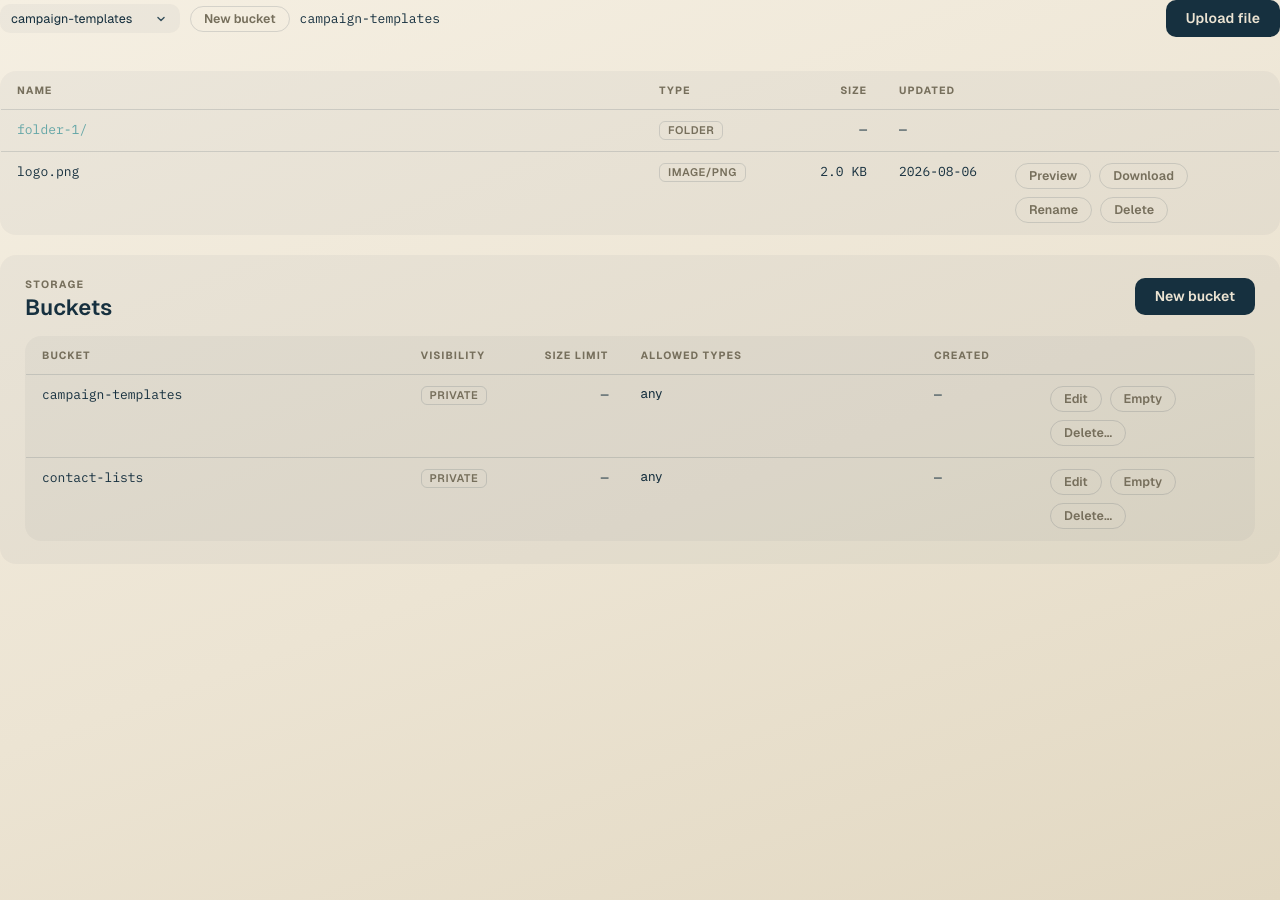
Scenario: StorageBrowser › the rail's New bucket chip opens the create dialog
# First match is the toolbar chip (the manager section repeats the action).
Click the 1st button "New bucket" at (240,18), box [190, 6, 290, 32]
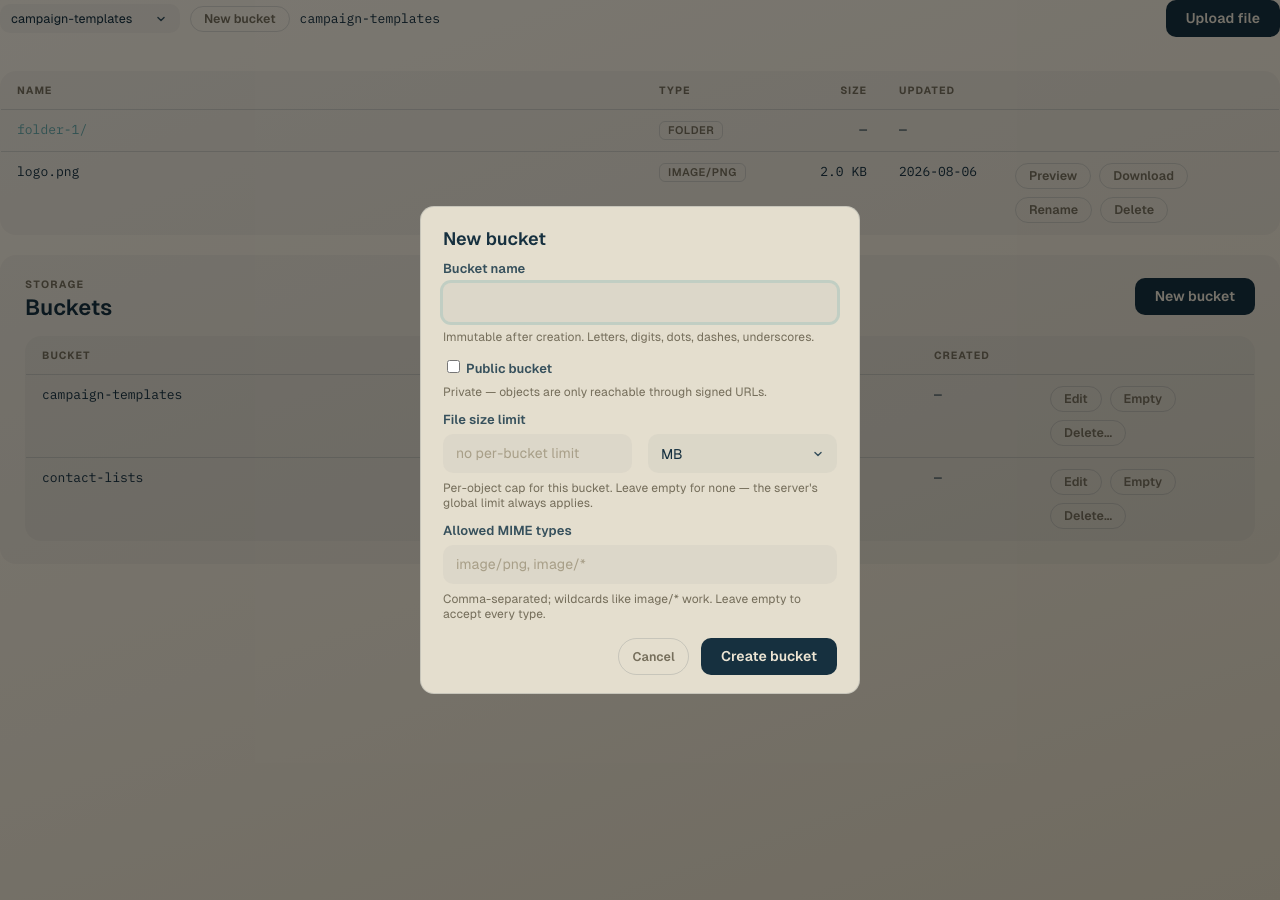
Expected: the dialog named "New bucket" is shown, [420, 206, 860, 694]
Click the button "Cancel" at (654,657), box [618, 638, 689, 675]
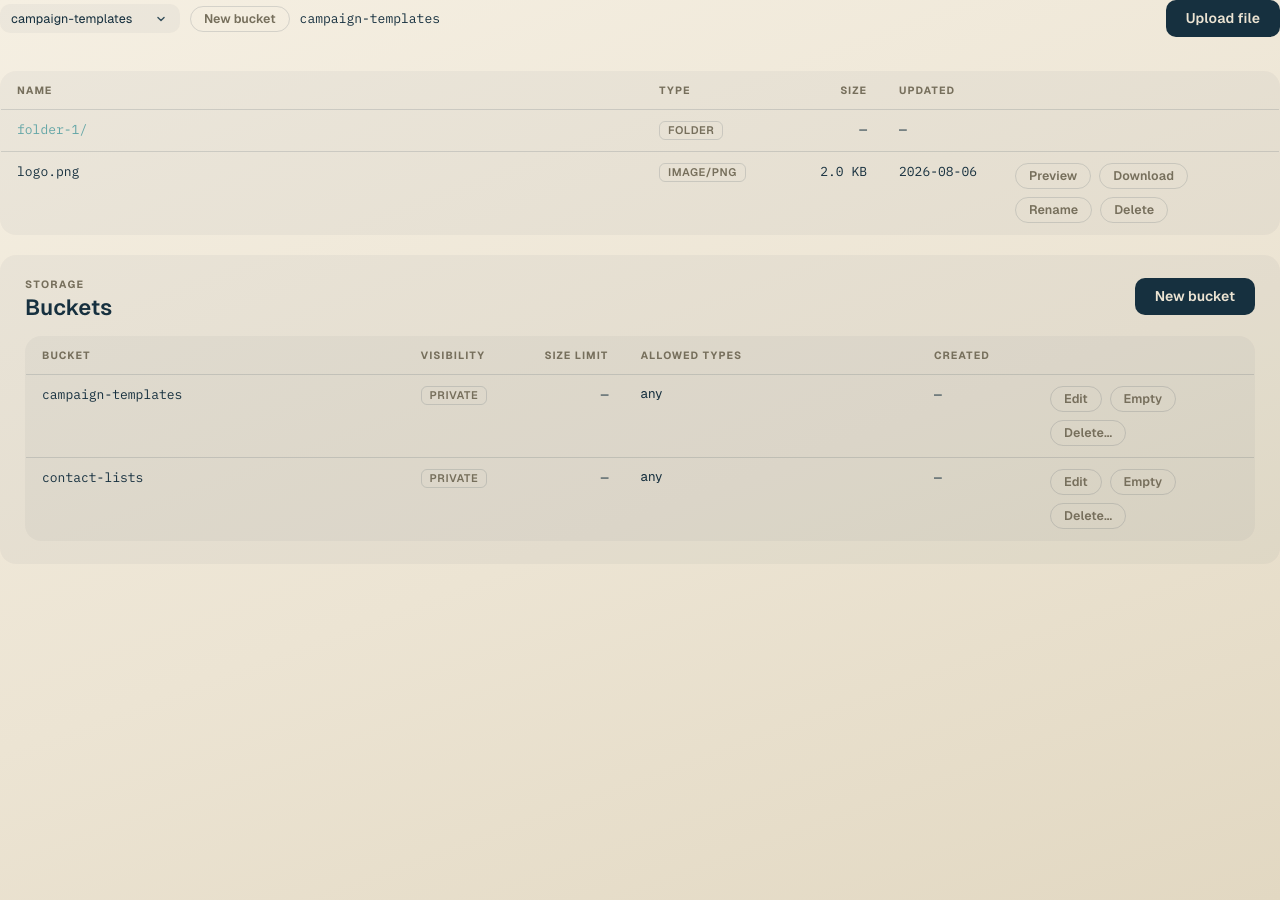
Expected: the dialog is gone
